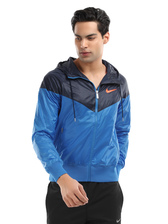clothoes: (30, 56, 130, 186)
